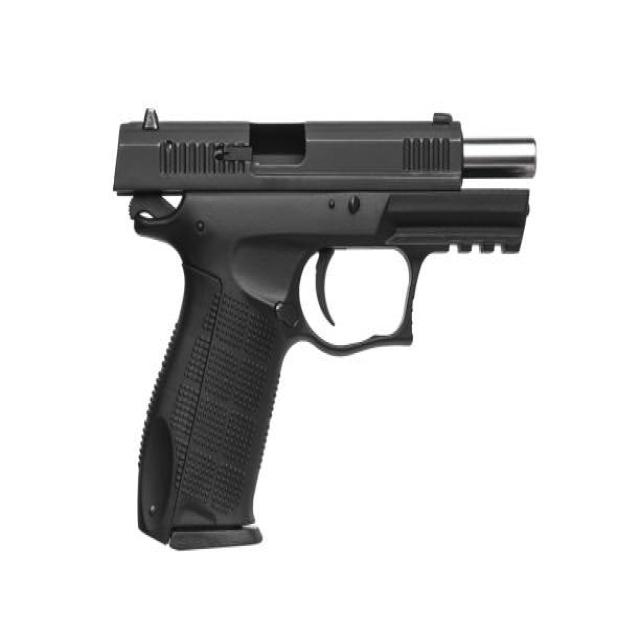pistol: (113, 101, 543, 566)
